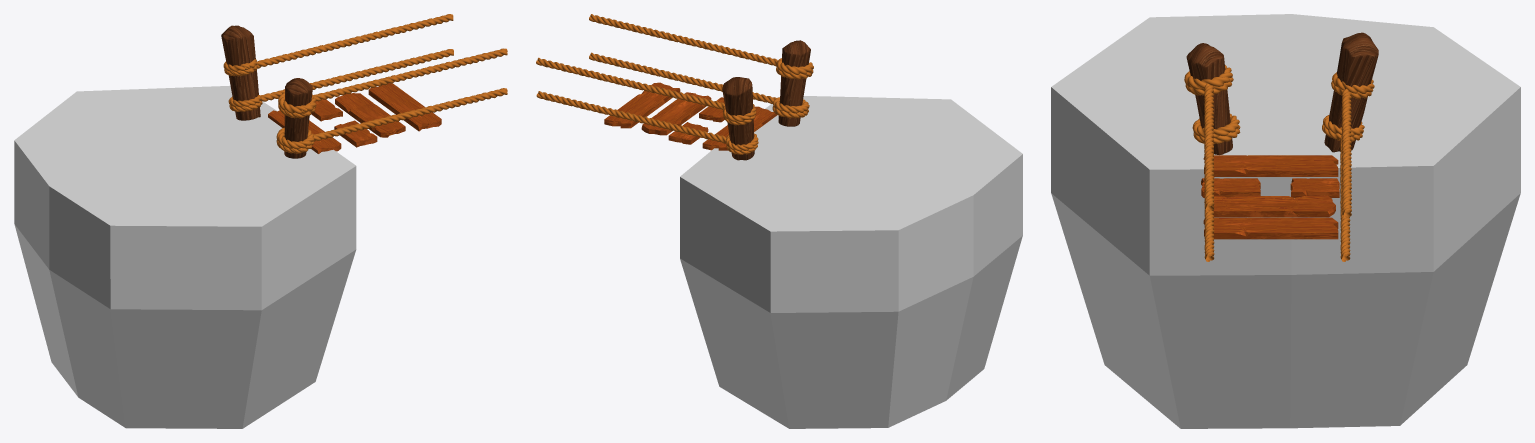
The model's file is Bridge01.fbx.
The picture shows the model from 3 angles, left to right: view 1: azimuth 30°, elevation 25°; view 2: azimuth 150°, elevation 25°; view 3: azimuth 270°, elevation 25°; orthographic projection. The views are drawn at different scales.
Parts seen in each view (by area): view 1: Plane.001, WoodLog.002, Circle.006, Circle.011, Circle.001, Wood2.001, WoodLog.001, Wood1, Circle.012, Wood2, WoodBroken2; view 2: Plane.001, WoodLog.002, WoodLog.001, Circle.012, Circle.001, Circle.006, Wood2.001, Circle.011, Wood1, Wood2; view 3: Plane.001, Wood2.001, WoodLog.002, Wood2, Wood1, WoodLog.001, Circle.001, Circle.006, WoodBroken2, WoodBroken1, Circle.012, Circle.011 (+2 smaller).
Part boxes in pixels (x1,y1,x2,y2): Plane.001: (14, 85, 356, 428); WoodLog.002: (221, 25, 260, 120); Circle.006: (256, 14, 453, 68); Circle.011: (313, 88, 507, 141); Circle.001: (313, 48, 507, 101); Wood2.001: (368, 83, 441, 131); WoodLog.001: (284, 78, 312, 158); Wood1: (335, 93, 405, 137); Circle.012: (261, 49, 453, 101); Wood2: (268, 110, 341, 153); WoodBroken2: (334, 120, 377, 147); Plane.001: (680, 96, 1022, 428); WoodLog.002: (722, 77, 754, 160); WoodLog.001: (778, 40, 810, 126); Circle.012: (536, 91, 726, 143); Circle.001: (589, 14, 777, 66); Circle.006: (536, 57, 724, 109); Wood2.001: (604, 82, 680, 128); Circle.011: (589, 52, 776, 103); Wood1: (641, 92, 711, 135); Wood2: (702, 106, 777, 150); Plane.001: (1051, 14, 1520, 428); Wood2.001: (1203, 217, 1338, 239); WoodLog.002: (1324, 32, 1378, 152); Wood2: (1203, 155, 1338, 176); Wood1: (1213, 195, 1335, 217); WoodLog.001: (1186, 43, 1232, 154); Circle.001: (1204, 83, 1214, 211); Circle.006: (1341, 89, 1351, 218); WoodBroken2: (1201, 178, 1260, 197); WoodBroken1: (1290, 178, 1339, 197); Circle.012: (1340, 135, 1350, 261); Circle.011: (1204, 138, 1214, 261).
Bounding box in the file's own units: 2448 × 1689 × 1847.
Materials: 6 (5 with a texture image).
